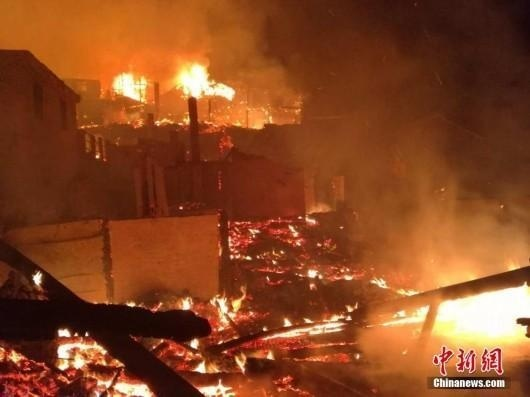fire: (380, 258, 530, 342), (216, 213, 336, 278), (169, 59, 234, 99), (111, 69, 150, 101)
